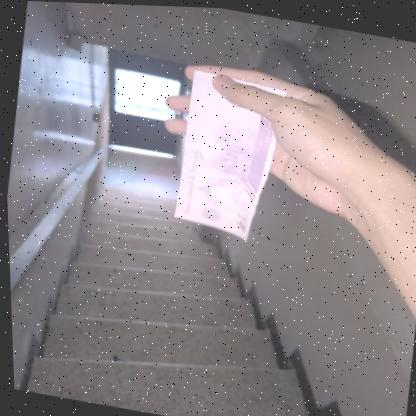one_hundred-back-vef: (164, 65, 291, 243)
